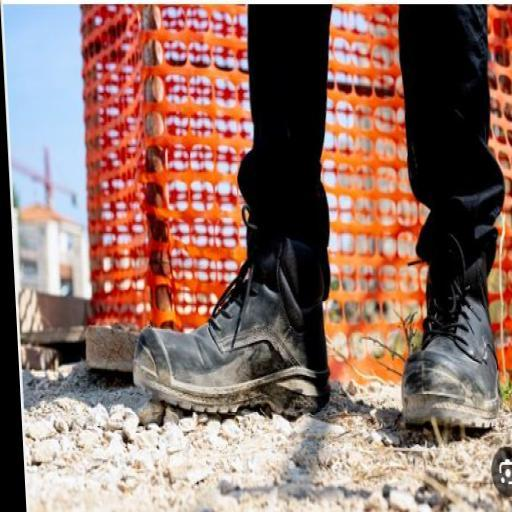safety_boots: (130, 292, 344, 442), (388, 295, 512, 456)
